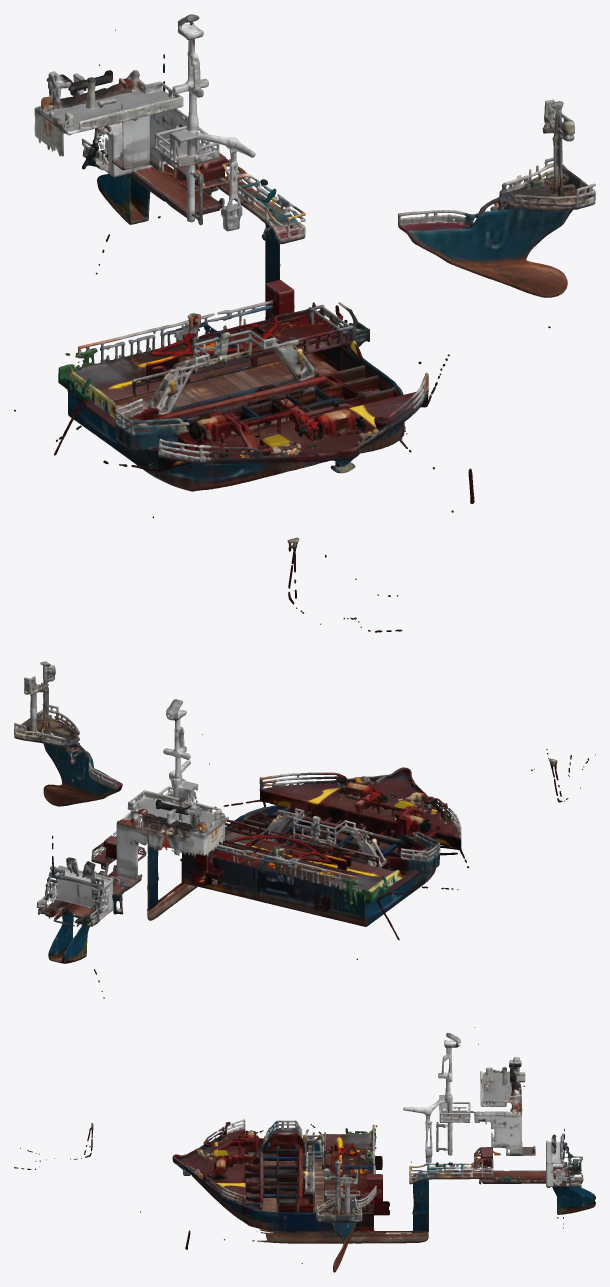
File: multi_vote_2026-05-06T100224.739.glb
3 renders of one model, top to bottom at view 1: azimuth 30°, elevation 25°; view 2: azimuth 150°, elevation 25°; view 3: azimuth 270°, elevation 25°, orthographic. The views are drawn at different scales.
Visible parts, largest first — view 1: world; view 2: world; view 3: world.
Boxes of the visible parts, <box> form: world: <box>14,14,595,632</box>; world: <box>14,661,595,998</box>; world: <box>14,1027,595,1272</box>.
Size of the model in its own units: 0.565 by 0.3343 by 0.8834.
Materials: 1 (1 with a texture image).
